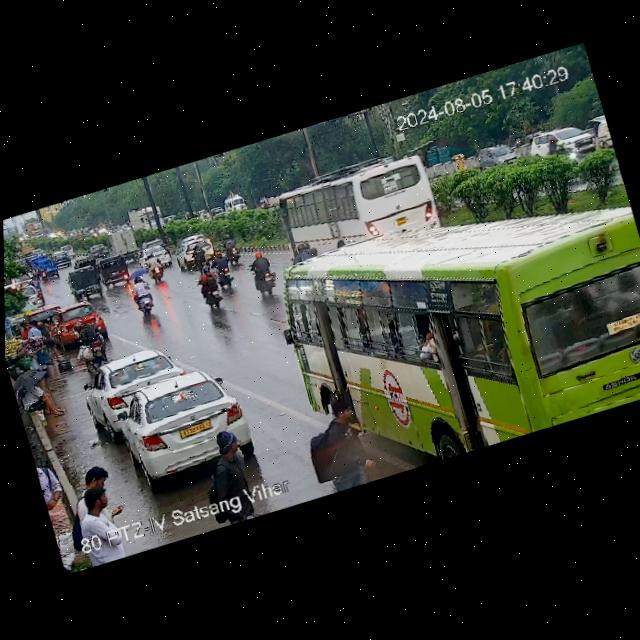bus: (276, 153, 640, 491), (268, 143, 451, 271), (220, 184, 252, 215)
car: (97, 359, 255, 484), (86, 343, 186, 425), (526, 116, 599, 171), (49, 297, 108, 341), (66, 260, 111, 301), (174, 233, 220, 271), (96, 250, 136, 289), (476, 137, 519, 173), (51, 246, 74, 270), (140, 233, 170, 251), (88, 241, 110, 262), (60, 240, 78, 260), (197, 207, 211, 221), (32, 245, 47, 258)
motorcycle: (68, 313, 112, 366), (192, 260, 230, 310), (245, 248, 282, 298), (125, 272, 162, 320), (210, 247, 243, 292), (137, 250, 173, 285), (218, 229, 244, 266), (37, 263, 51, 284)
person: (296, 387, 378, 497), (195, 427, 260, 528), (73, 459, 135, 538), (74, 487, 132, 546), (16, 371, 68, 425), (14, 332, 56, 383), (78, 461, 110, 490), (450, 150, 468, 176)
truck: (107, 224, 145, 260), (127, 201, 164, 235), (24, 216, 49, 241), (476, 237, 485, 242)
